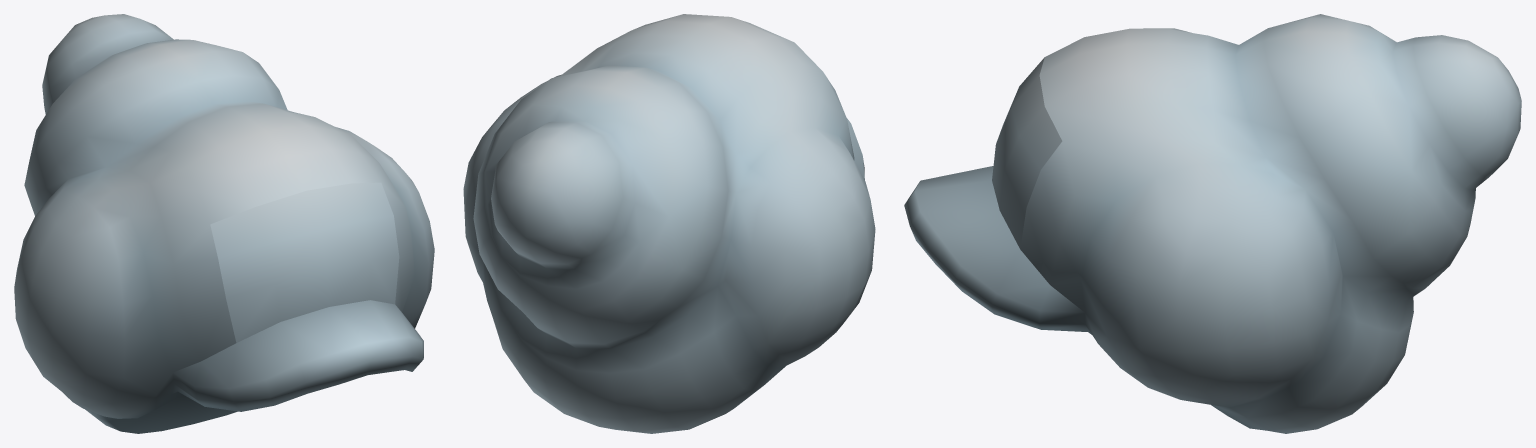
Rendered from Head_Mario.fbx.
3 views of the same model, side by side, from view 1: azimuth 30°, elevation 25°; view 2: azimuth 150°, elevation 25°; view 3: azimuth 270°, elevation 25° (orthographic). The views are drawn at different scales.
Visible parts, largest first — view 1: mesh-1; view 2: mesh-1; view 3: mesh-1.
Part boxes in pixels (x1,y1,x2,y2): mesh-1: (14,14,434,433); mesh-1: (463,14,875,433); mesh-1: (904,14,1521,433).
Size of the model in its own units: 973 by 881 by 1292.
